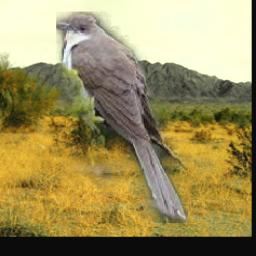Cuckoo: (56, 13, 188, 224)
